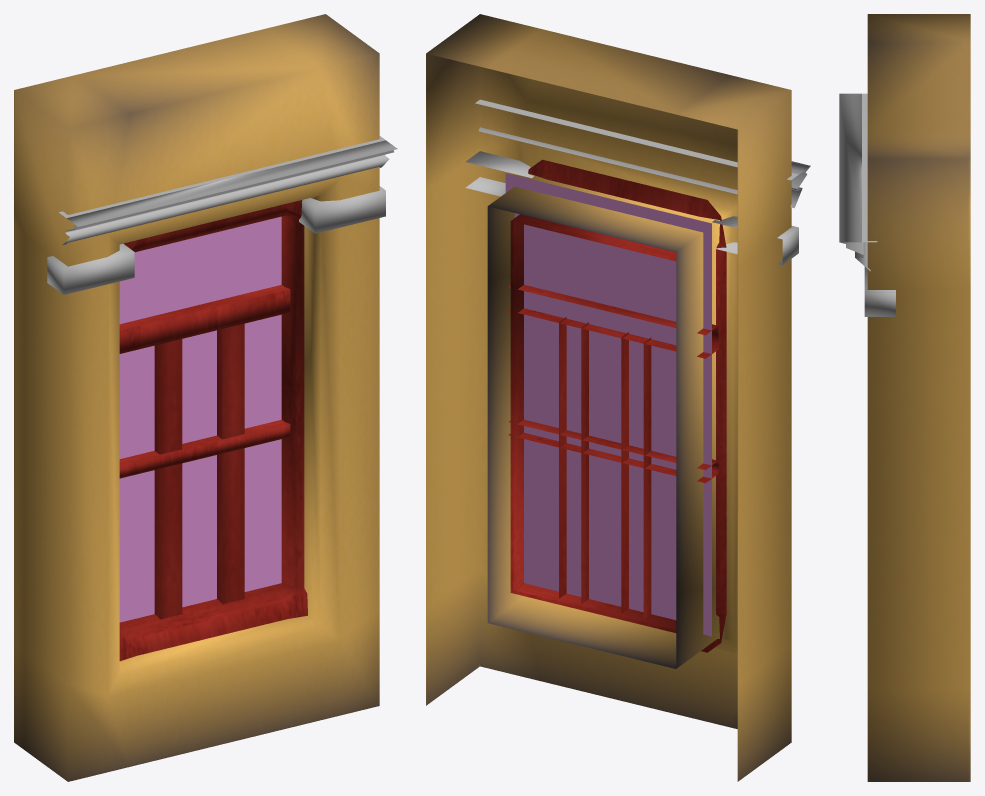
Rendered from JanelaSuperiorLateralPequena.fbx.
3 views of the same model, side by side, from view 1: azimuth 30°, elevation 25°; view 2: azimuth 150°, elevation 25°; view 3: azimuth 270°, elevation 25° (orthographic). The views are drawn at different scales.
Visible parts, largest first — view 1: ParedeJanelaSuperiorLateralPequena, JanelaSuperiorLateralPequena, VidroJanelaSuperiorLateralPequena, DetalheJanelaSuperiorLateralPequena; view 2: ParedeJanelaSuperiorLateralPequena, VidroJanelaSuperiorLateralPequena, JanelaSuperiorLateralPequena, DetalheJanelaSuperiorLateralPequena; view 3: ParedeJanelaSuperiorLateralPequena, DetalheJanelaSuperiorLateralPequena.
Boxes of the visible parts, x1,y1,x2,y2 form: ParedeJanelaSuperiorLateralPequena: (14, 14, 379, 781); JanelaSuperiorLateralPequena: (119, 200, 307, 661); VidroJanelaSuperiorLateralPequena: (119, 216, 281, 622); DetalheJanelaSuperiorLateralPequena: (47, 136, 397, 294); ParedeJanelaSuperiorLateralPequena: (426, 14, 791, 781); VidroJanelaSuperiorLateralPequena: (505, 173, 711, 636); JanelaSuperiorLateralPequena: (508, 159, 726, 652); DetalheJanelaSuperiorLateralPequena: (465, 99, 810, 265); ParedeJanelaSuperiorLateralPequena: (867, 14, 970, 781); DetalheJanelaSuperiorLateralPequena: (839, 93, 895, 316).
Size of the model in its own units: 103 by 200 by 38.2.
